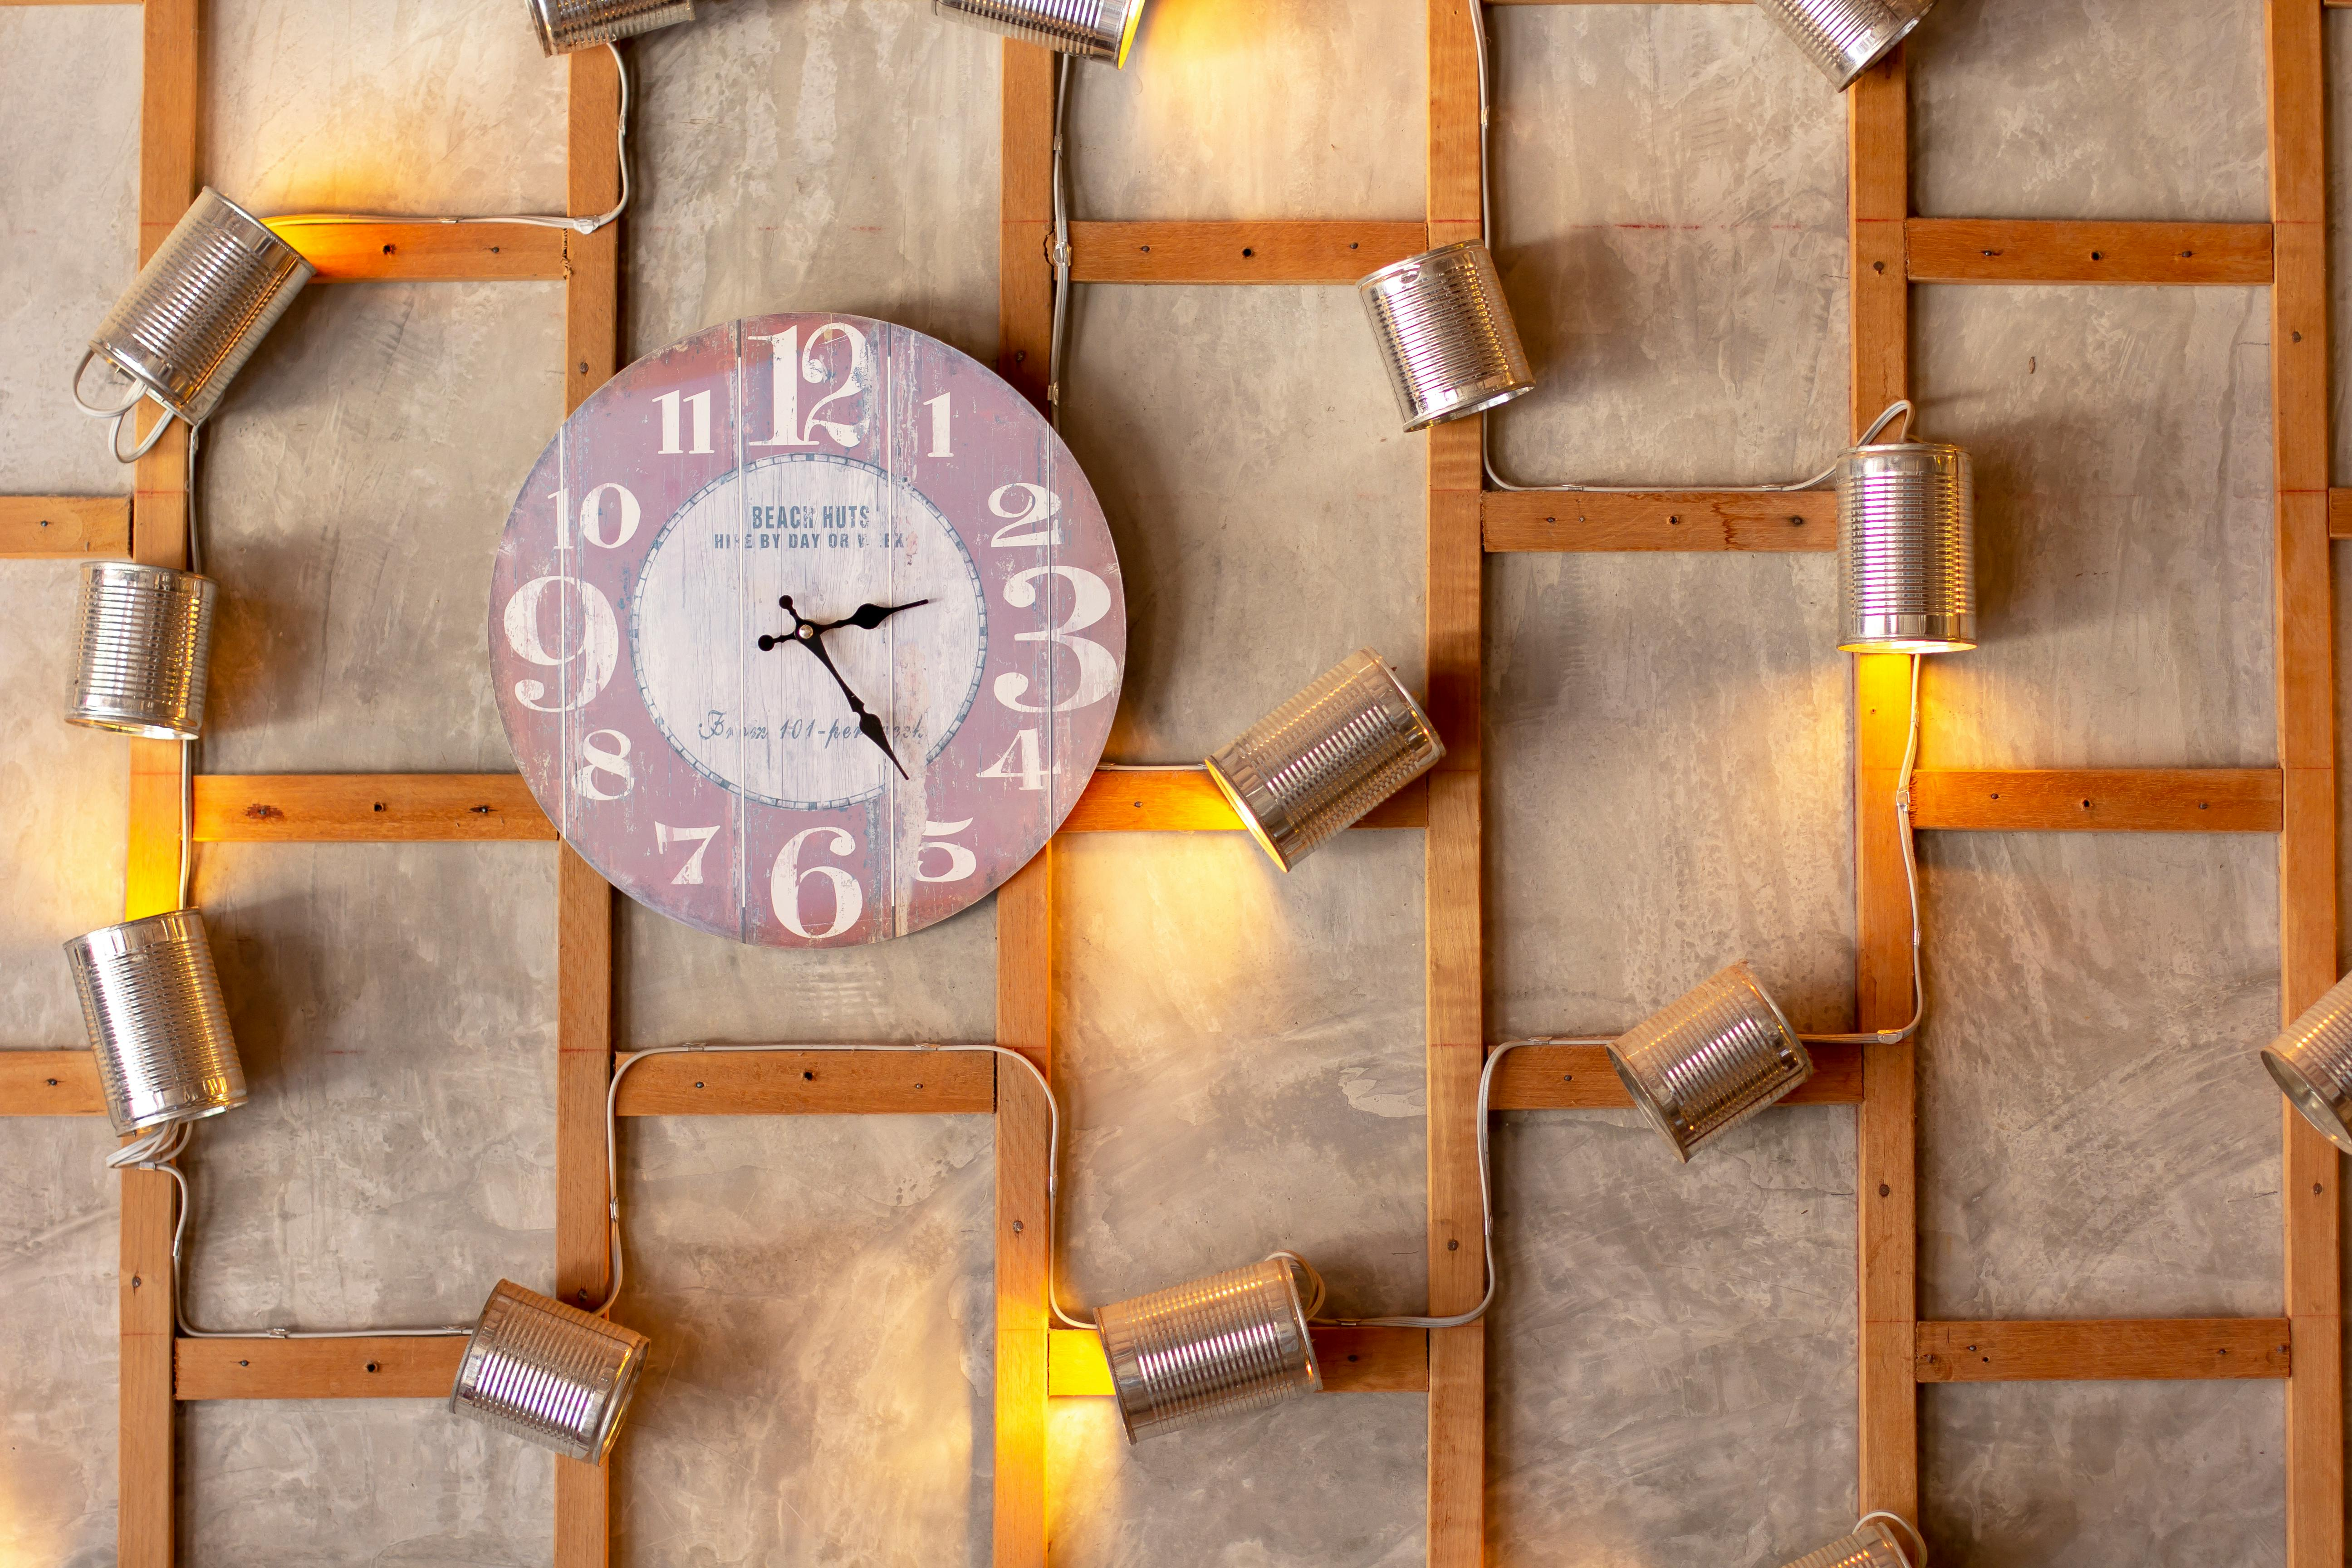clock: (451, 340, 1197, 964)
